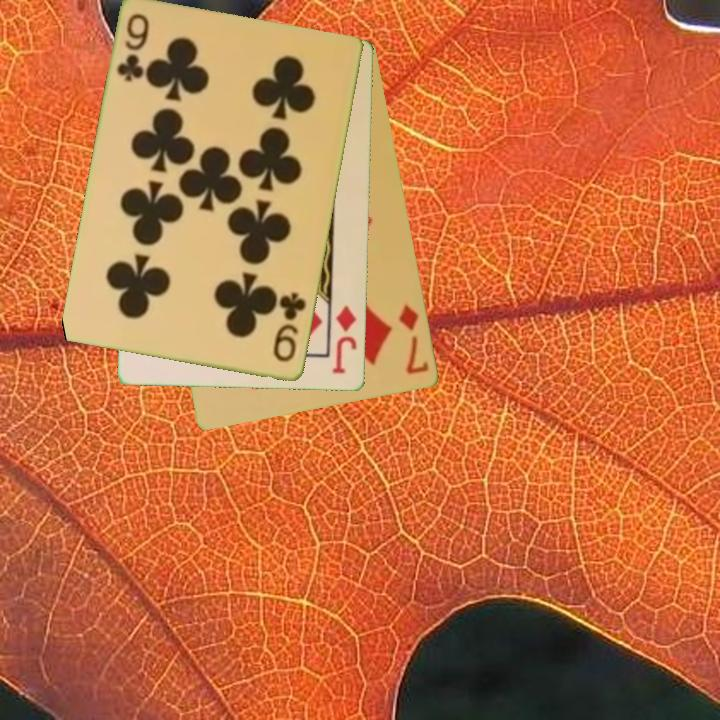7d: (396, 301, 432, 378)
9c: (270, 289, 309, 366), (114, 10, 153, 86)
Jd: (329, 303, 360, 378)
